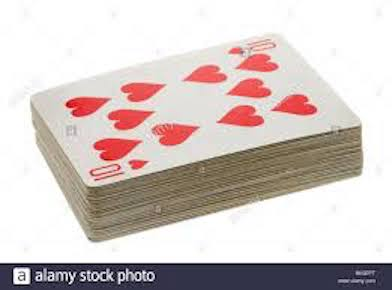TenOfHearts: (24, 29, 359, 189)
